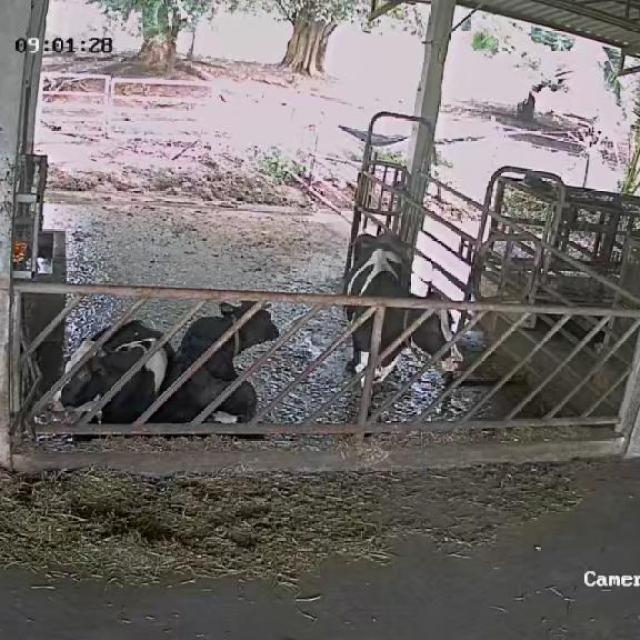lying down: (40, 308, 174, 437), (173, 290, 281, 422)
standing: (339, 234, 465, 404)
